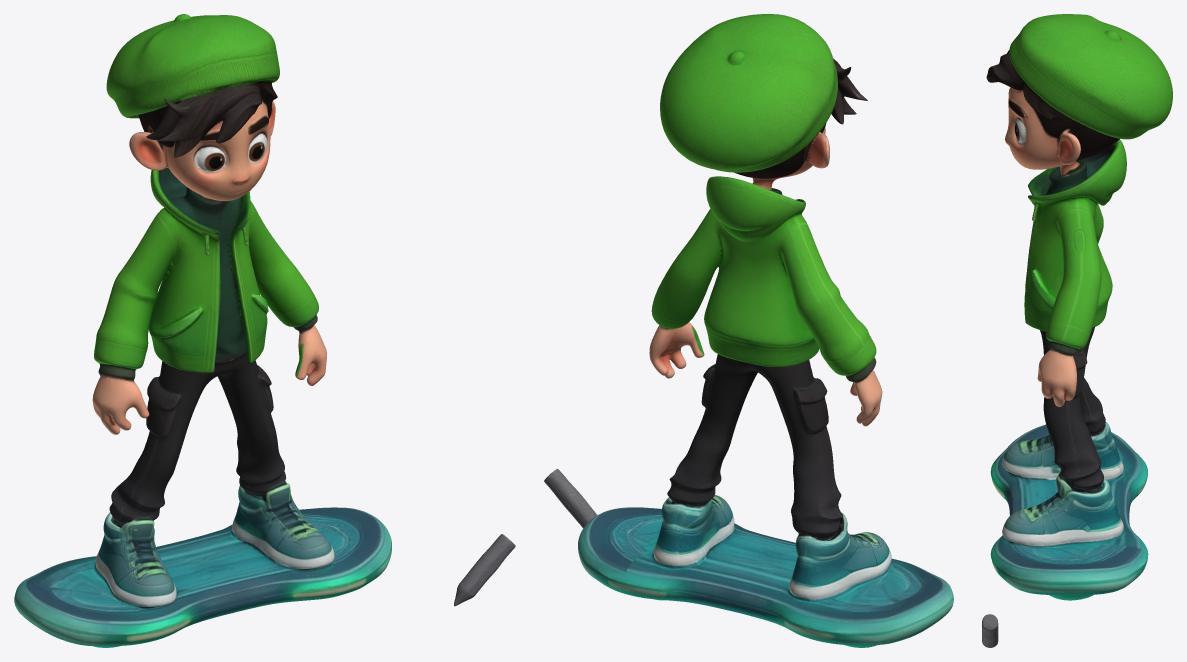
File: player_game.glb
The picture shows the model from 3 angles, left to right: view 1: azimuth 30°, elevation 25°; view 2: azimuth 150°, elevation 25°; view 3: azimuth 270°, elevation 25°; orthographic projection. The views are drawn at different scales.
Bounding box in the file's own units: 1.47 × 1.9 × 0.6141.
Materials: 1 (1 with a texture image).
